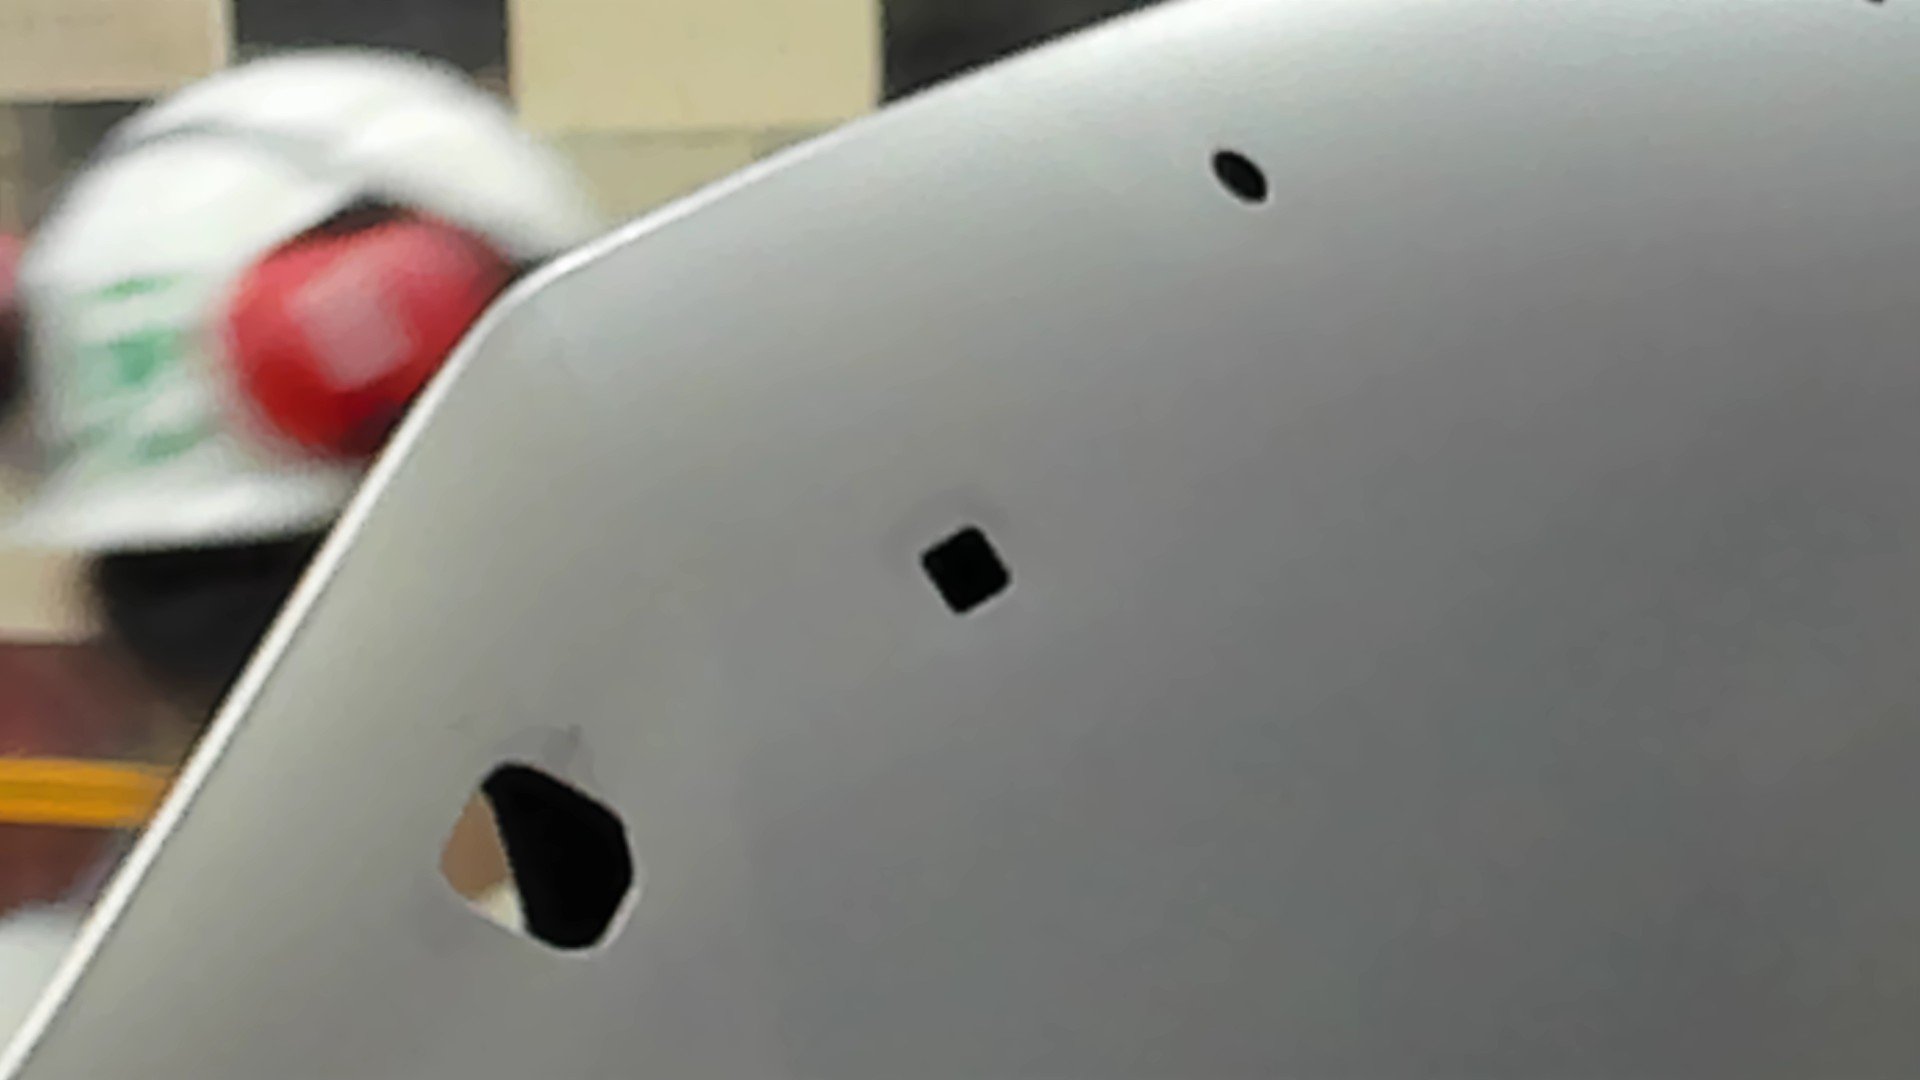chico: (1207, 141, 1275, 210)
grande: (433, 758, 645, 961)
mediano: (918, 524, 1015, 618)
